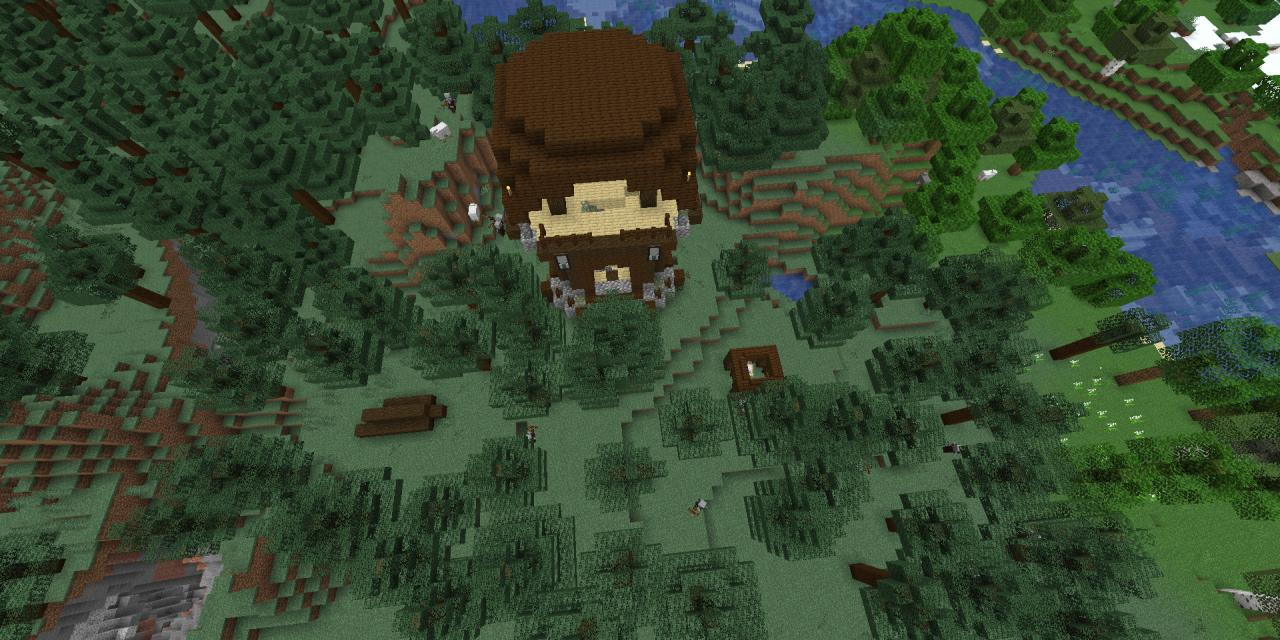pillager outpost: (484, 21, 712, 332)
